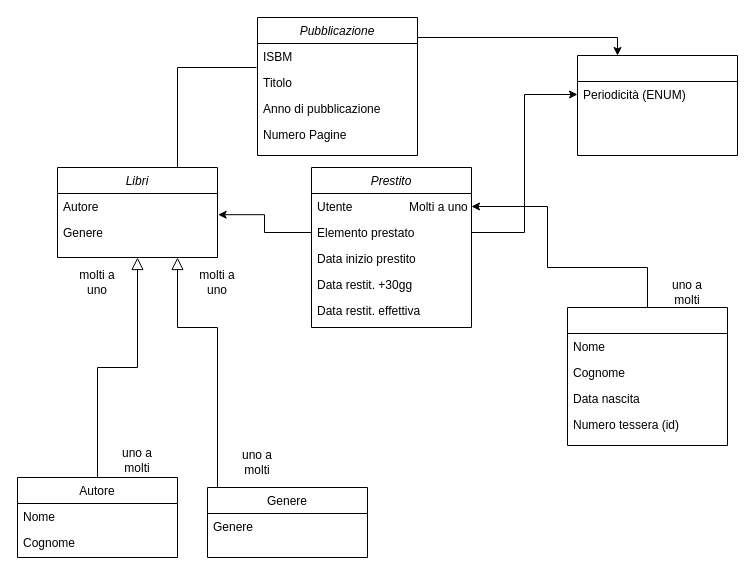
The diagram is 755 pixels wide and 576 high, and some of its shapes have lost their labels. Here are the shapes that lost their labels. From the top down, the box of each, then its label:
(576, 54, 738, 156): Riviste
(566, 306, 728, 446): Utente
